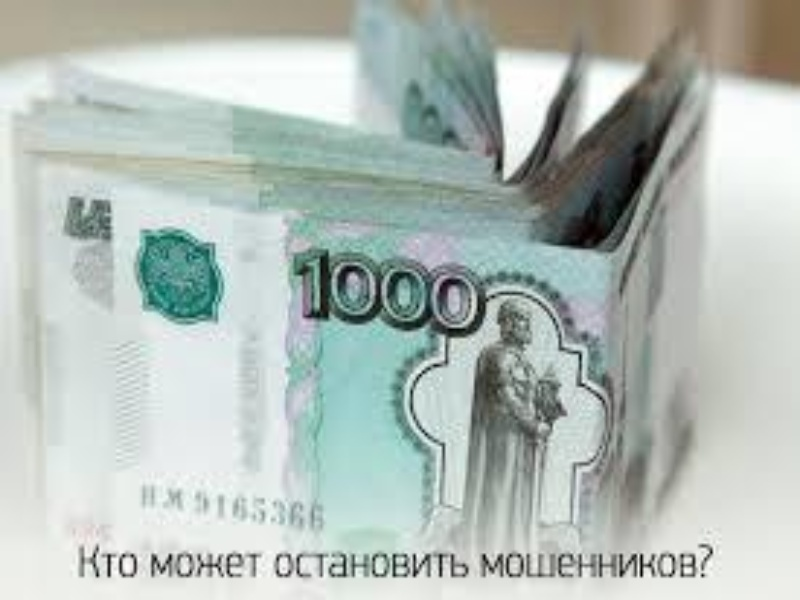cash: (8, 1, 708, 550)
